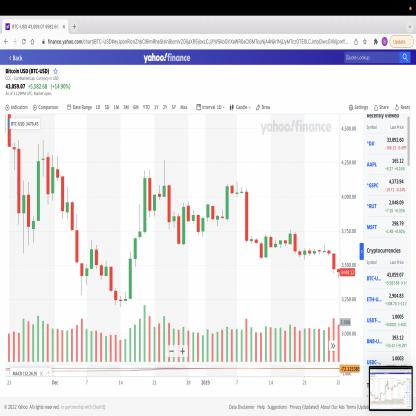Bearish: 3 Black Crows: (69, 197, 85, 299)
Bearish: Tweezer Top: (142, 166, 152, 239)
Bullish: 3 White Soldiers: (127, 201, 142, 301), (133, 167, 147, 268)
Bullish: Engulfing: (176, 200, 186, 248)
